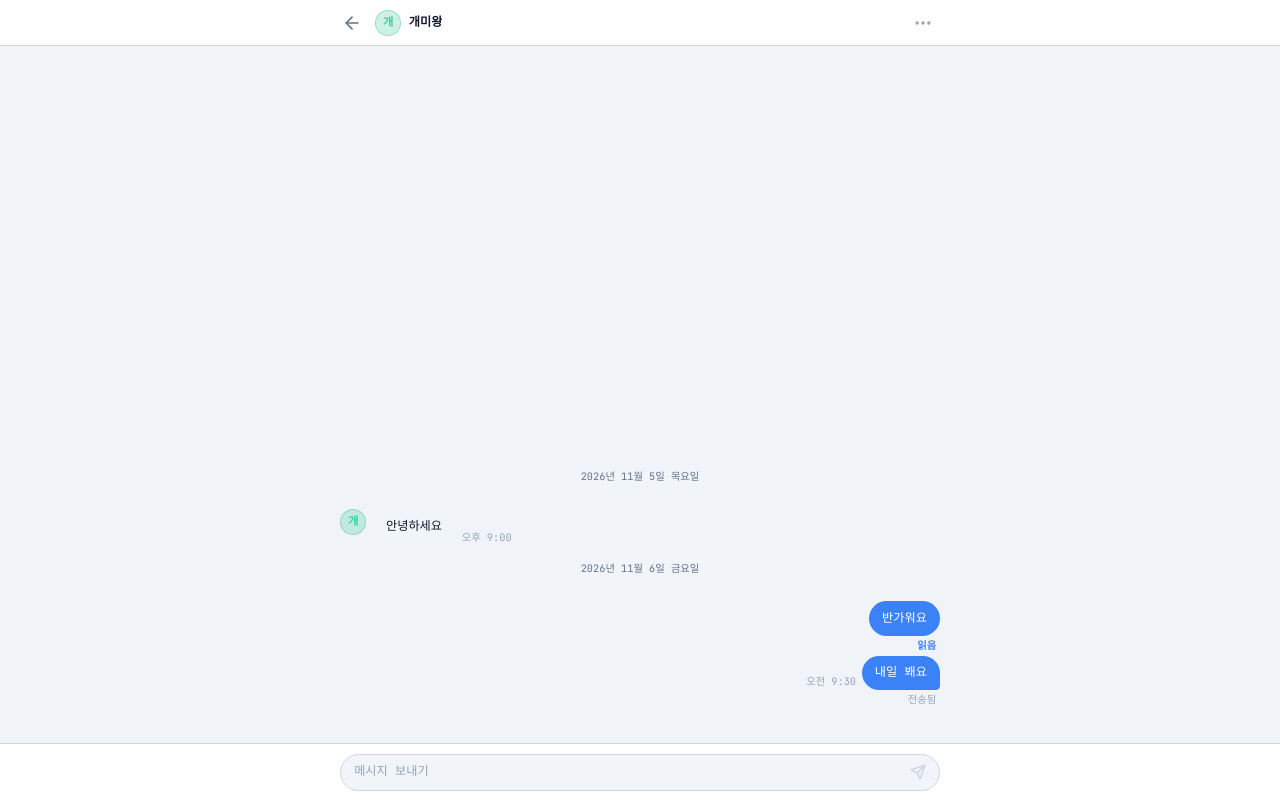
보내기 › 너무 빨리 보내면(429) 잠시 뒤에 보내라고
The width and height of the screenshot is (1280, 800).
Check: the button "안녕하세요" is shown, box [372,509,456,546]
Type "도배" into the text box named "메시지 쓰기".
click(628, 772); type("도배")  # box [354,762,902,782]
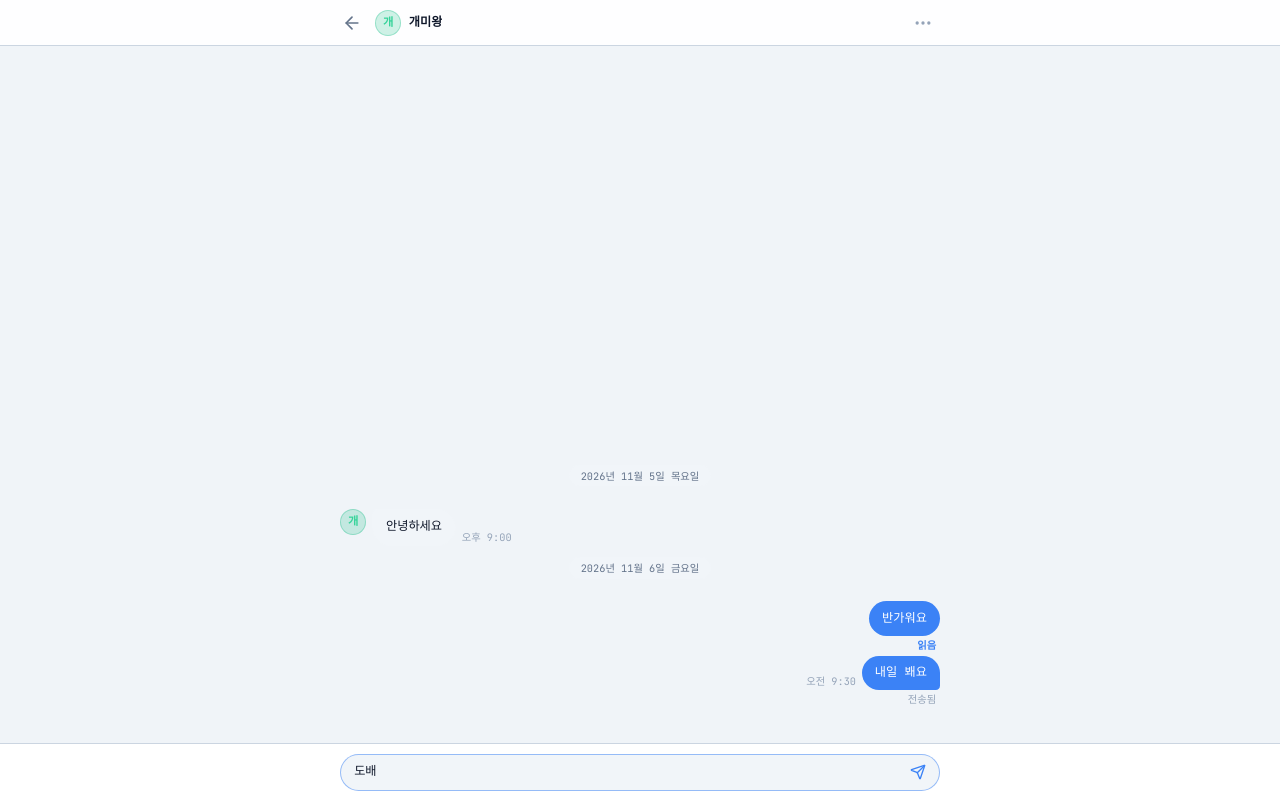
Click the button named "보내기".
click(918, 772)  # box [910,764,926,780]
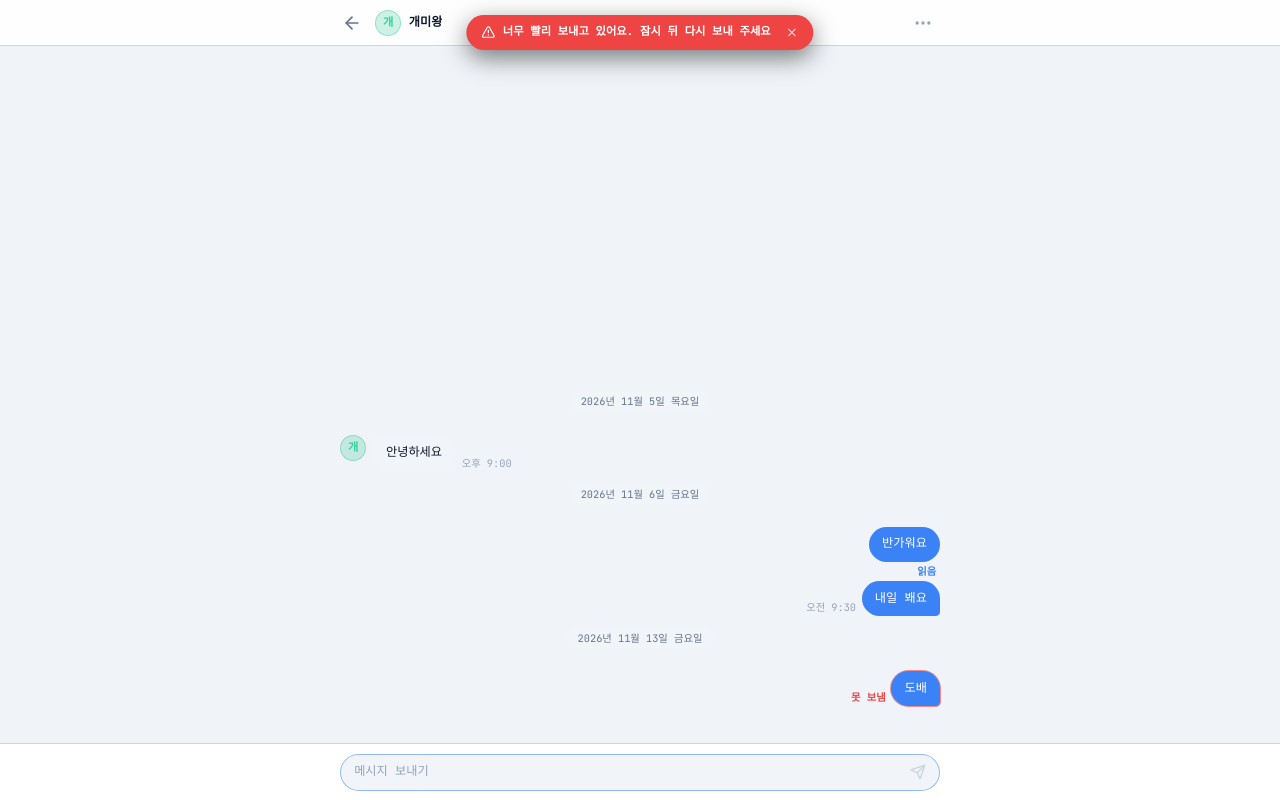
Check: the message shows "너무 빨리 보내고 있어요", box [503,24,771,38]
